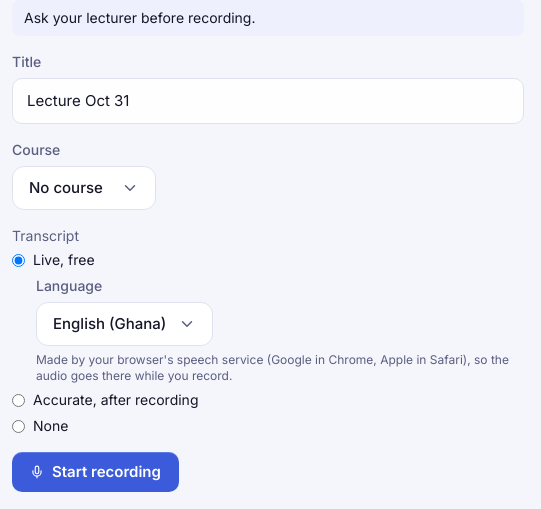
Test: Recorder › says the free live transcript is made by the speech service of the browser, so the audio goes to its vendor
expect the text "your browser.s speech service" is shown: met, box x1=36 y1=352 x2=509 y2=383
Click the radio button labelled "Accurate, after recording" at (18, 400), box x1=12 y1=394 x2=25 y2=406
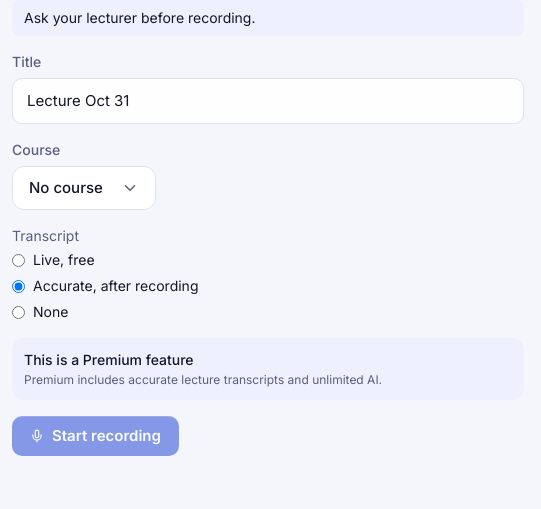
expect the text "your browser.s speech service" is gone: met
